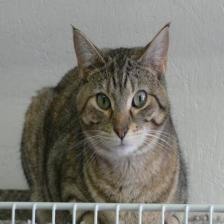cat: (67, 21, 178, 155)
